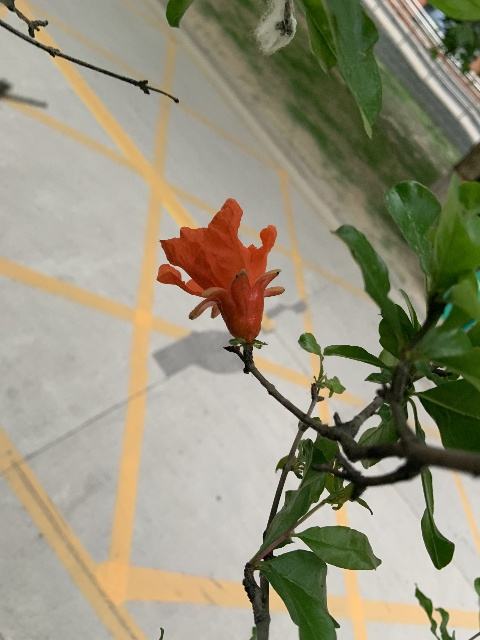flower: (156, 197, 284, 343)
